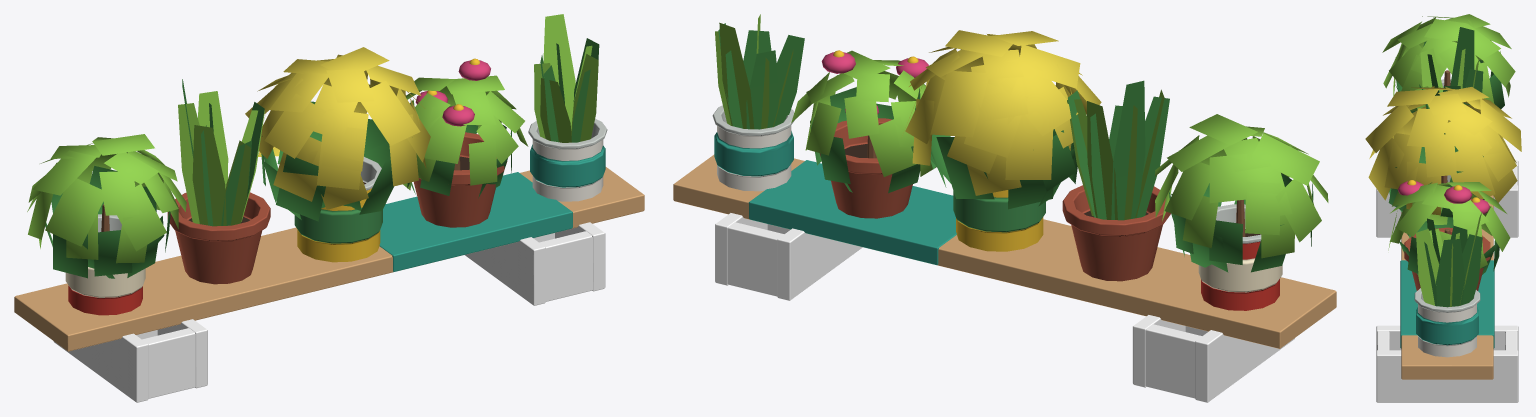
The model's file is prop_plant_pots_c.glb.
The picture shows the model from 3 angles, left to right: view 1: azimuth 30°, elevation 25°; view 2: azimuth 150°, elevation 25°; view 3: azimuth 270°, elevation 25°; orthographic projection. The views are drawn at different scales.
Parts seen in each view (by area): view 1: prop_plant_pots_c; view 2: prop_plant_pots_c; view 3: prop_plant_pots_c.
Boxes of the visible parts, x1,y1,x2,y2 form: prop_plant_pots_c: [14, 14, 644, 402]; prop_plant_pots_c: [673, 14, 1336, 402]; prop_plant_pots_c: [1365, 14, 1521, 402].
Bounding box in the file's own units: 1.62 × 0.6855 × 0.4405.
